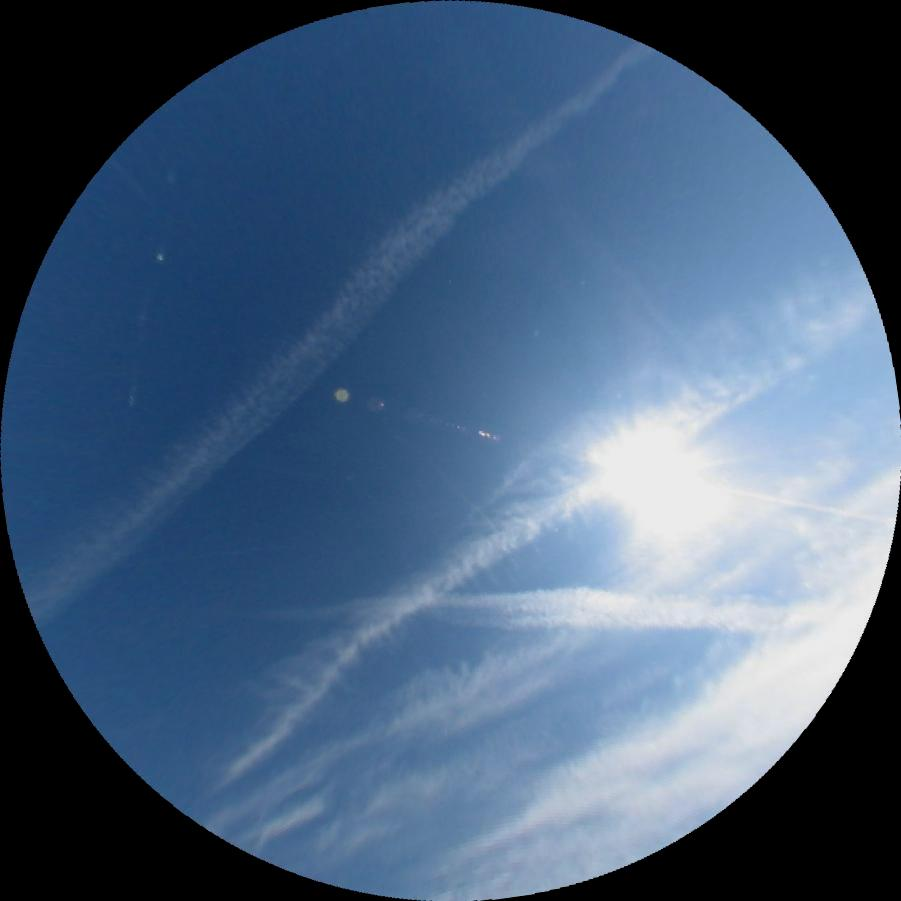contrail veryold: (139, 222, 892, 802), (5, 9, 657, 633), (250, 585, 811, 632)
parasite: (123, 167, 181, 409), (36, 542, 296, 572), (718, 486, 887, 516)
sun: (615, 425, 724, 518)
